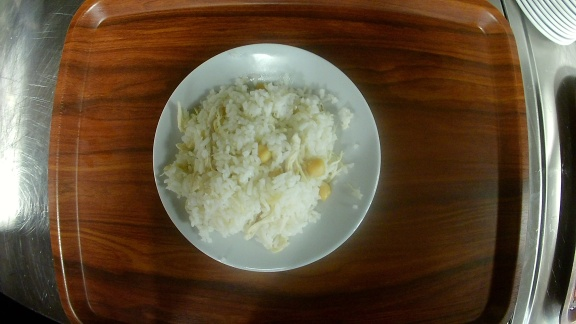nohutlupilav: (151, 43, 381, 272)
